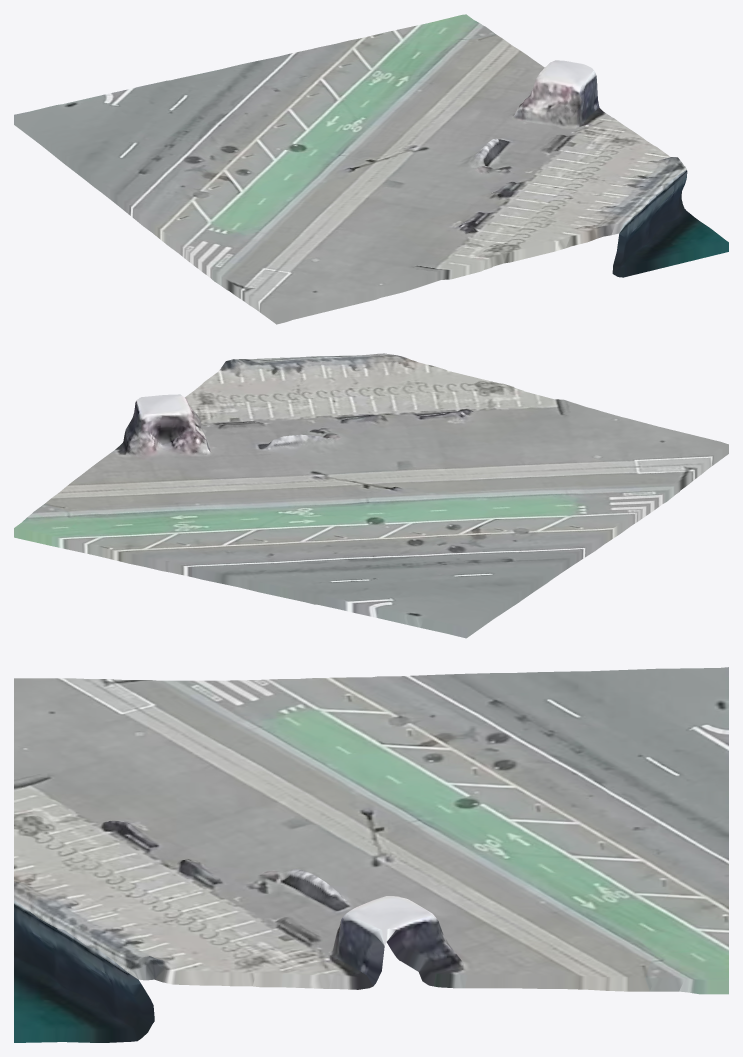
The model's file is z20-167787-405217-h0-yup-uvflip-v3-world.glb.
3 views of the same model, one above another, from view 1: azimuth 30°, elevation 25°; view 2: azimuth 150°, elevation 25°; view 3: azimuth 270°, elevation 25° (orthographic). The views are drawn at different scales.
Bounding box in the file's own units: 30.16 × 5.52 × 30.32.
1 material, 1 textured.
